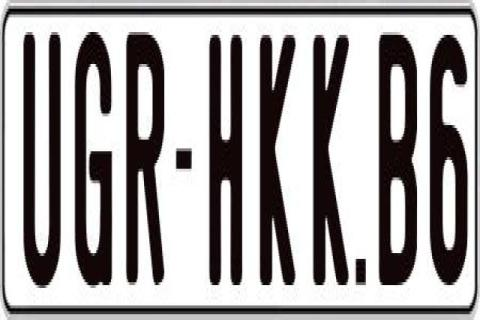0: (428, 35, 462, 297)
B: (376, 29, 420, 294)
G: (73, 29, 113, 297)
H: (207, 35, 245, 297)
K: (313, 29, 354, 282), (258, 29, 293, 288)
R: (122, 23, 166, 280)
U: (23, 32, 61, 291)
